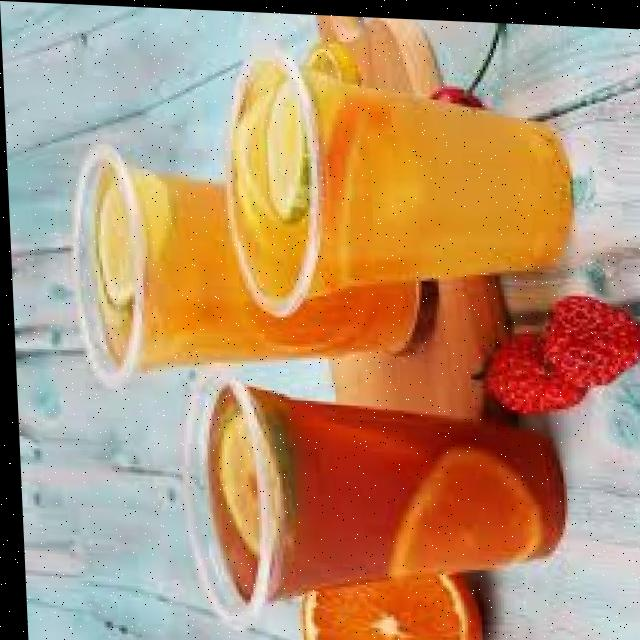cup: (180, 375, 558, 622), (225, 59, 567, 313), (73, 146, 413, 381)
